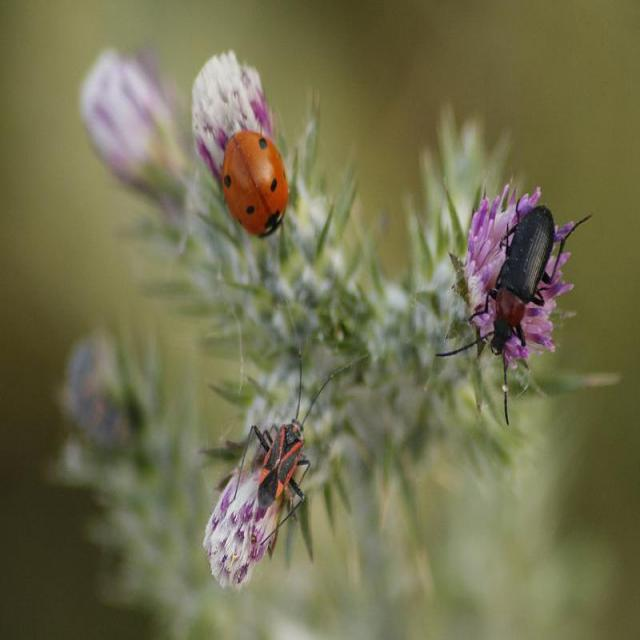Miridae-Adult-: (434, 182, 602, 430), (244, 308, 354, 530)
